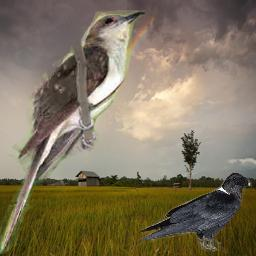Crow: (136, 172, 253, 255)
Cuckoo: (0, 10, 145, 254)
